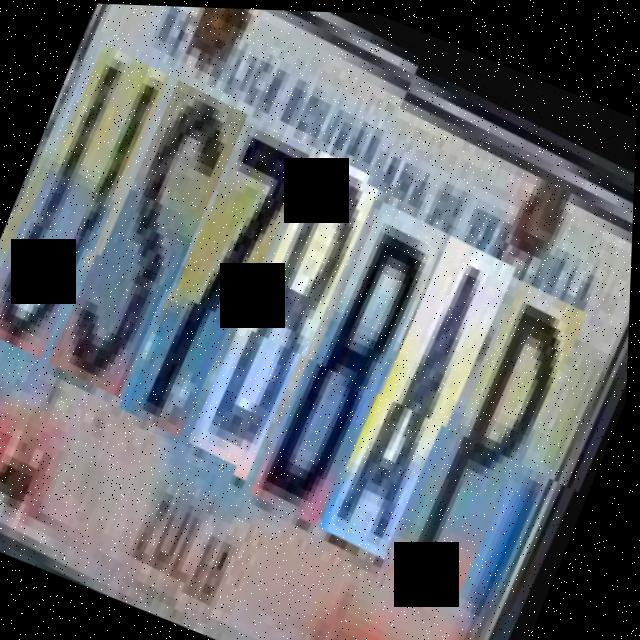7: (124, 114, 314, 450)
A: (330, 221, 526, 558)
B: (261, 189, 456, 526), (194, 148, 385, 483)
P: (401, 264, 596, 602)
S: (53, 81, 249, 410)
U: (0, 45, 171, 374)
